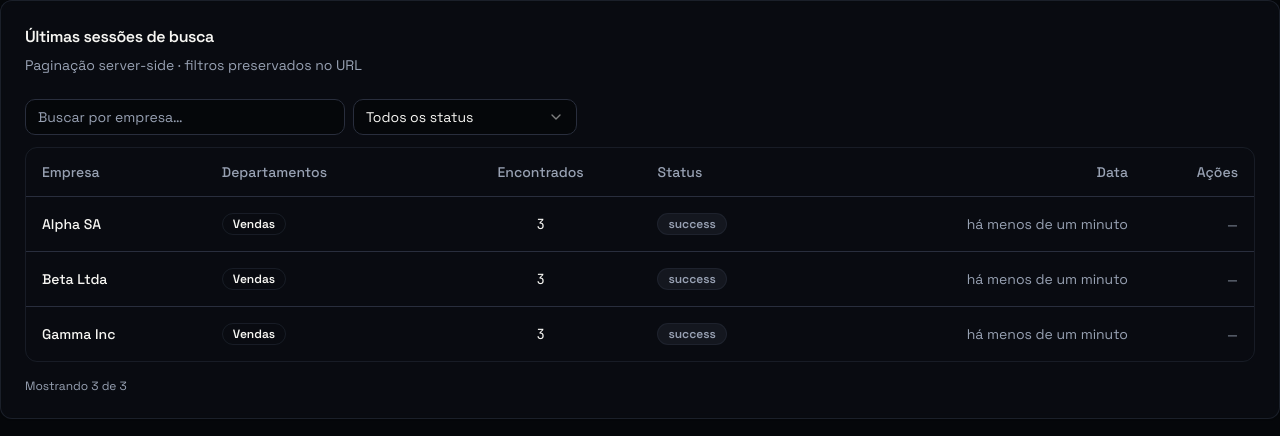
Test case: SessionsPanel (R36 server-side) › filtra por texto e sincroniza com o URL (debounced)
The image size is (1280, 436).
Type "beta" into the field named "Buscar sessão por empresa".
click(185, 117); type("beta")  # box [25,99,345,135]
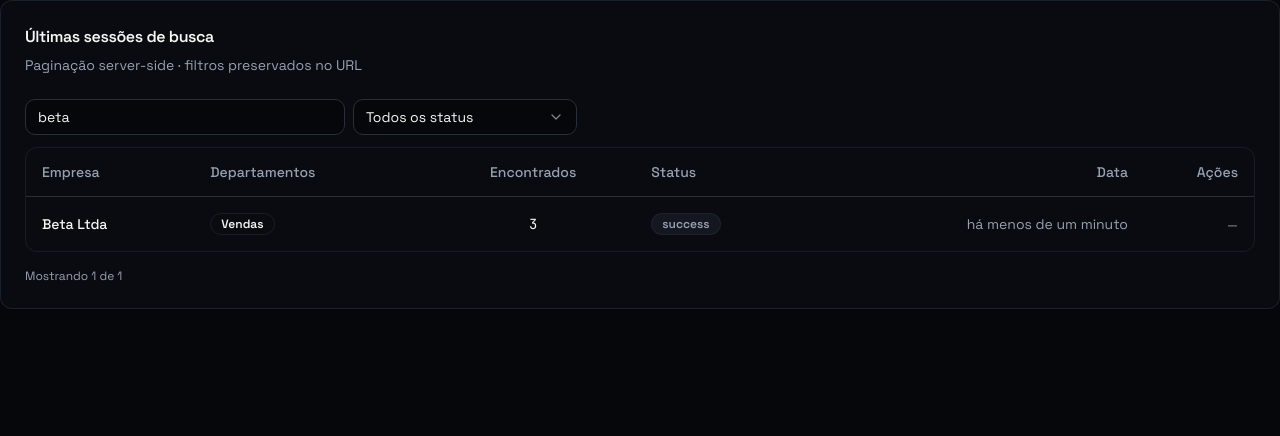
Expected: the text "Beta Ltda" is shown, [26,196,194,250]
Expected: the text "Alpha SA" is gone
